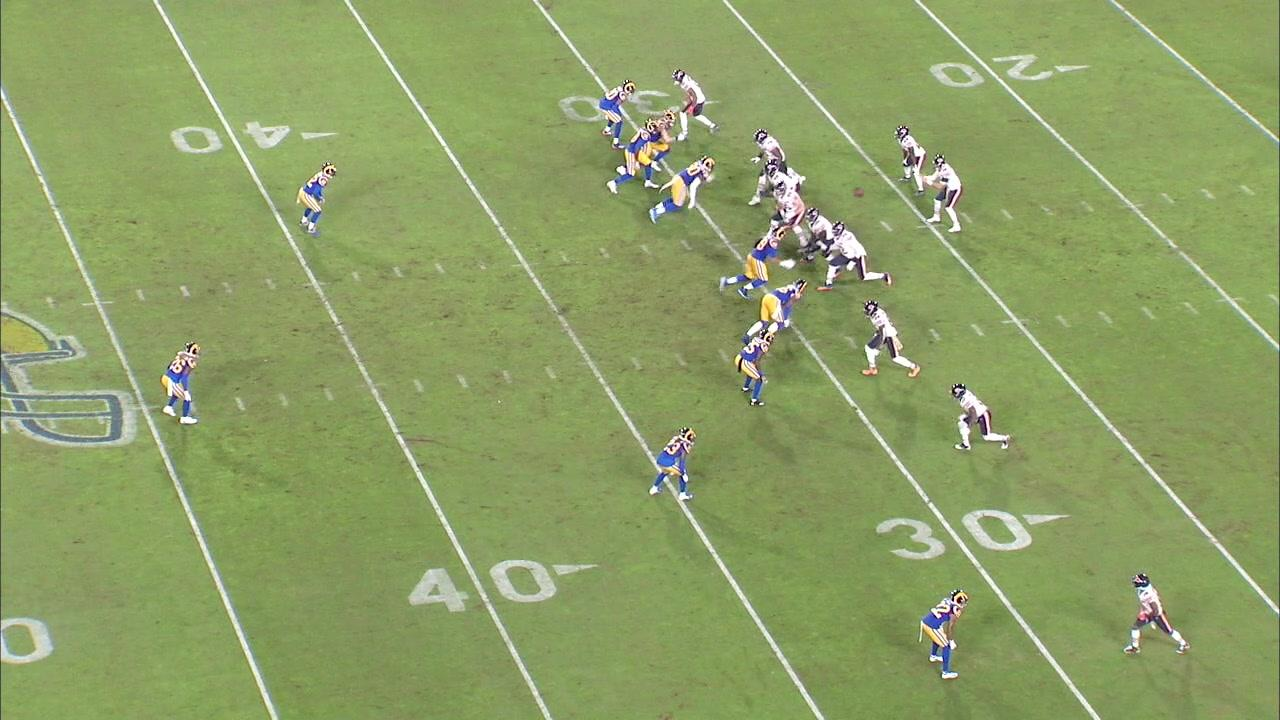player: (1120, 572, 1192, 658), (718, 224, 796, 300), (815, 221, 894, 293), (857, 297, 924, 381), (743, 127, 807, 208), (915, 588, 971, 680), (615, 109, 686, 181), (647, 156, 717, 225), (946, 381, 1012, 454), (605, 118, 665, 197), (742, 278, 810, 346), (648, 425, 700, 504), (668, 68, 723, 142), (917, 152, 965, 235), (162, 339, 204, 427), (765, 182, 813, 253), (733, 328, 775, 407), (296, 159, 339, 236), (799, 207, 842, 278), (597, 79, 637, 152), (891, 124, 929, 197), (764, 162, 802, 194)
